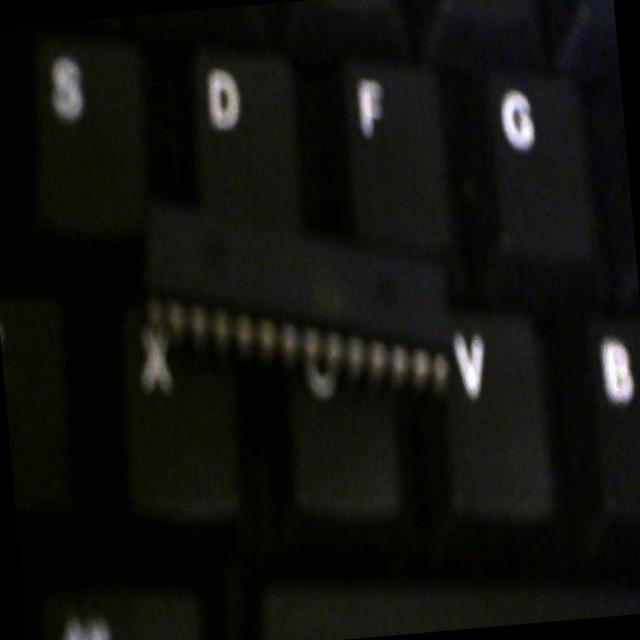atmega: (132, 160, 458, 419)
